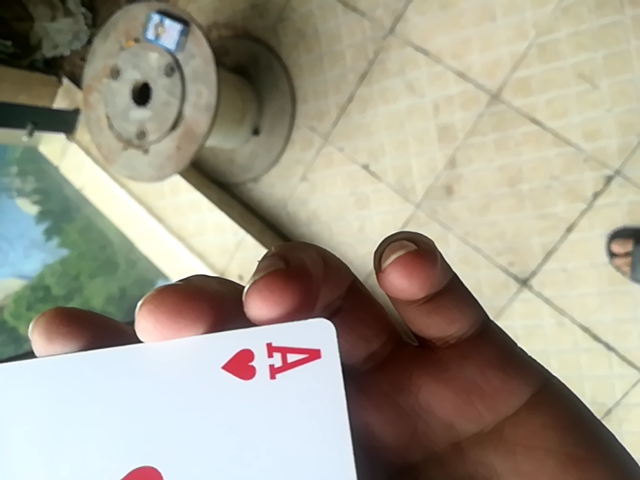hx a: (1, 315, 358, 480)
